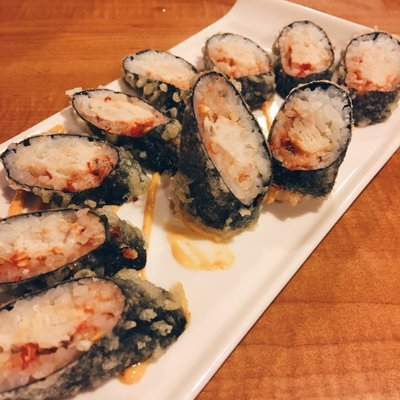curry: (0, 0, 400, 329)
sandwich: (0, 5, 394, 398)
